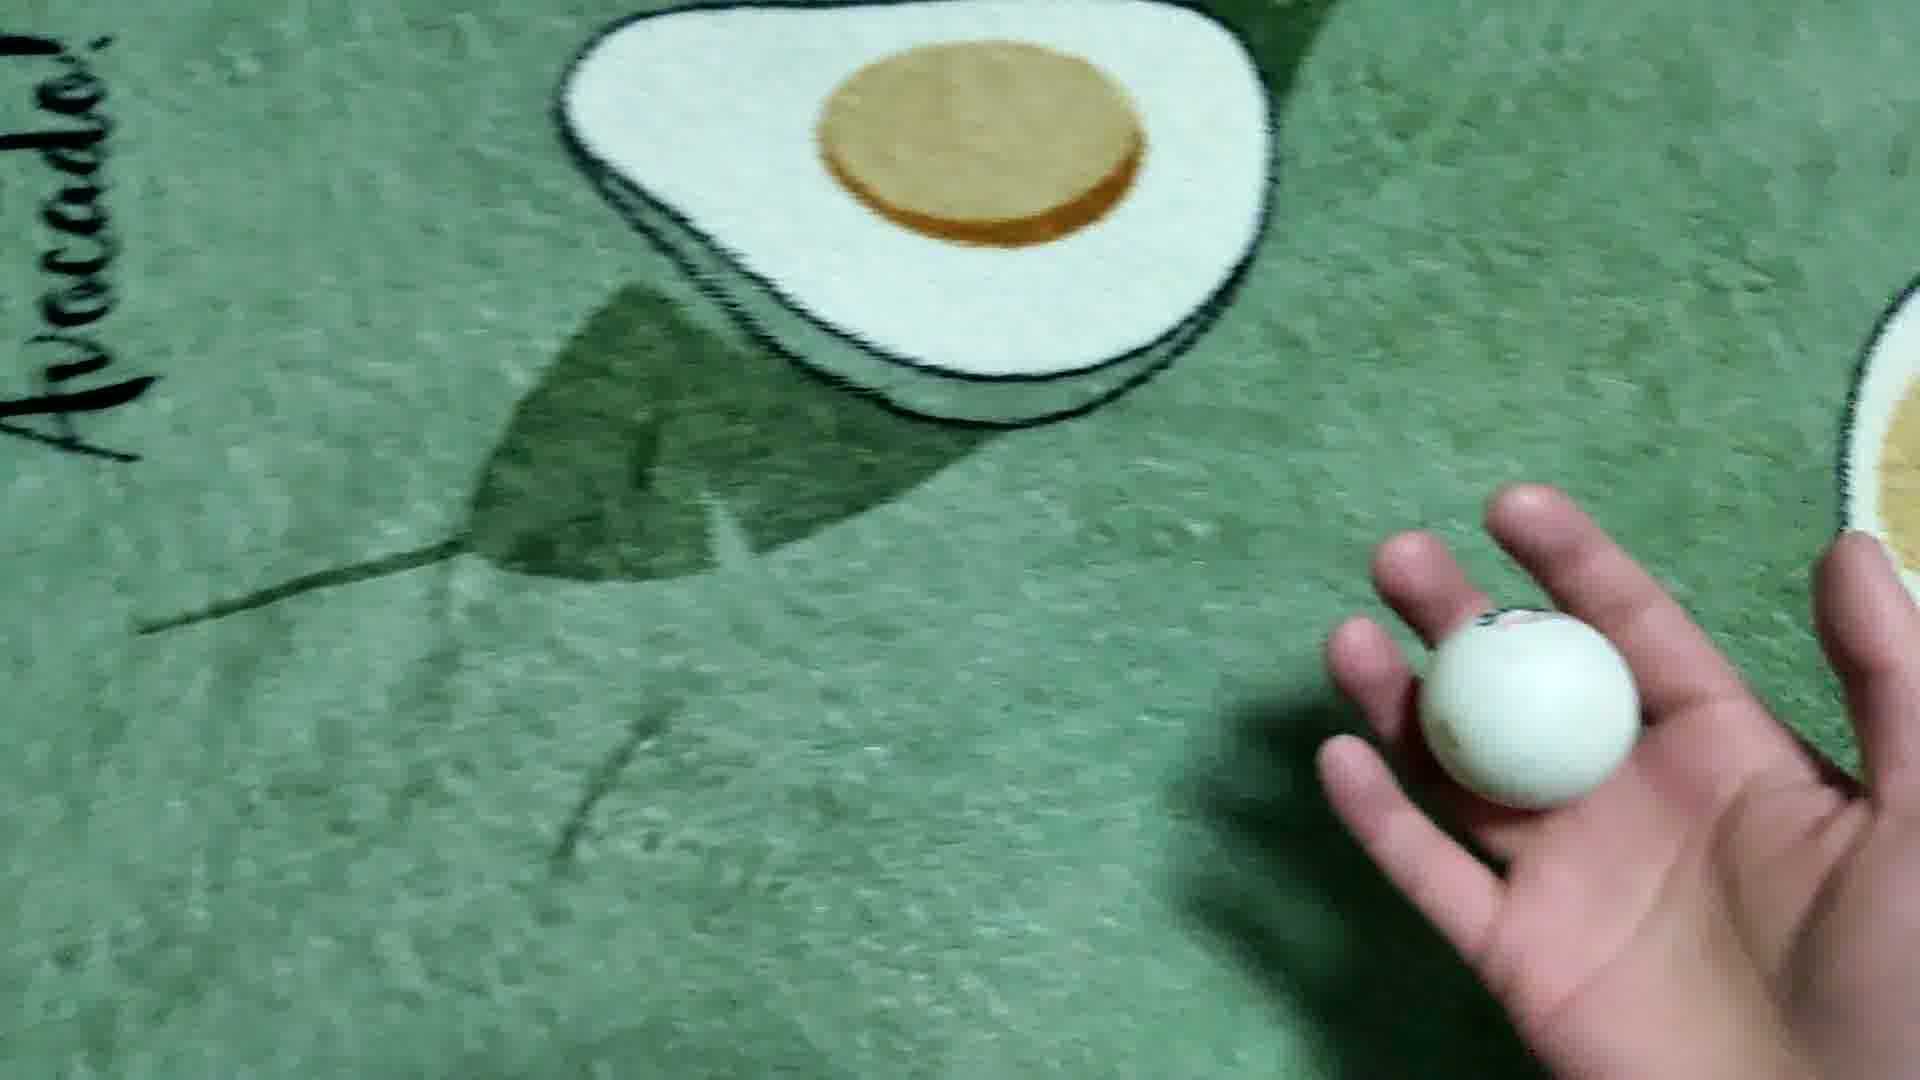Ball: (1420, 607, 1640, 806)
